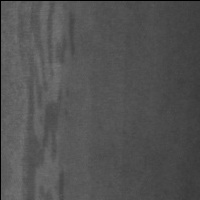inclusion: (20, 3, 77, 200)
